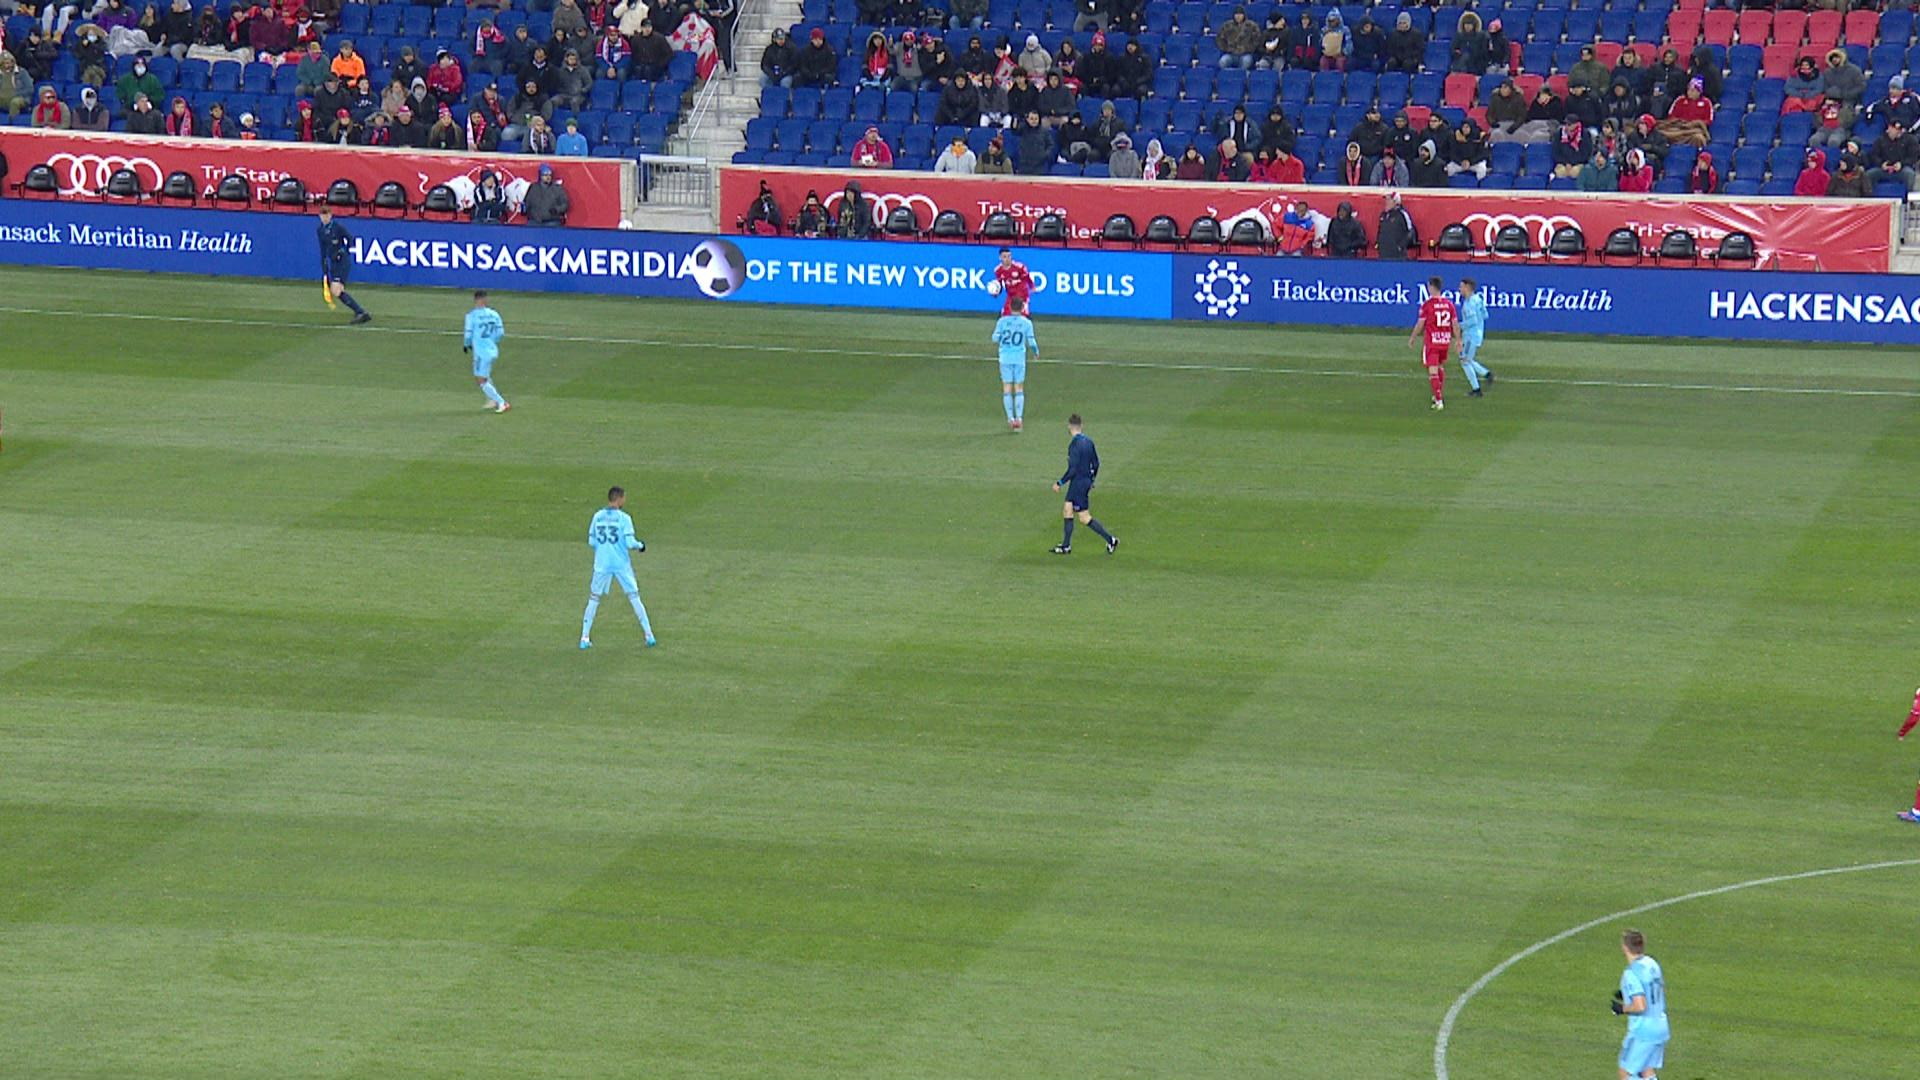football: (989, 281, 1000, 293)
